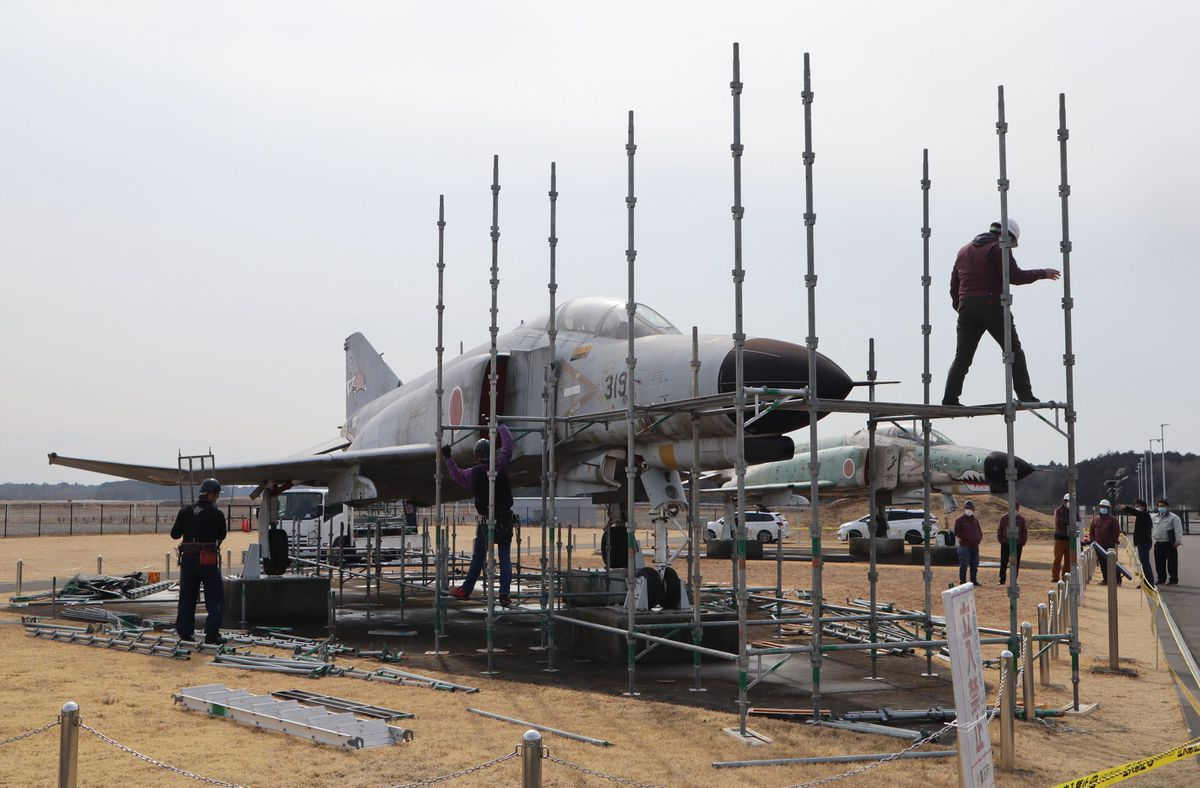F4: (47, 294, 902, 611), (679, 423, 1053, 546)
